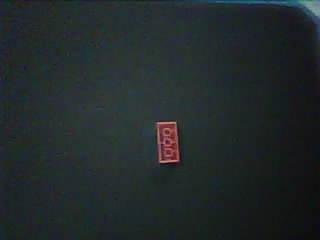lego: (156, 121, 180, 164)
